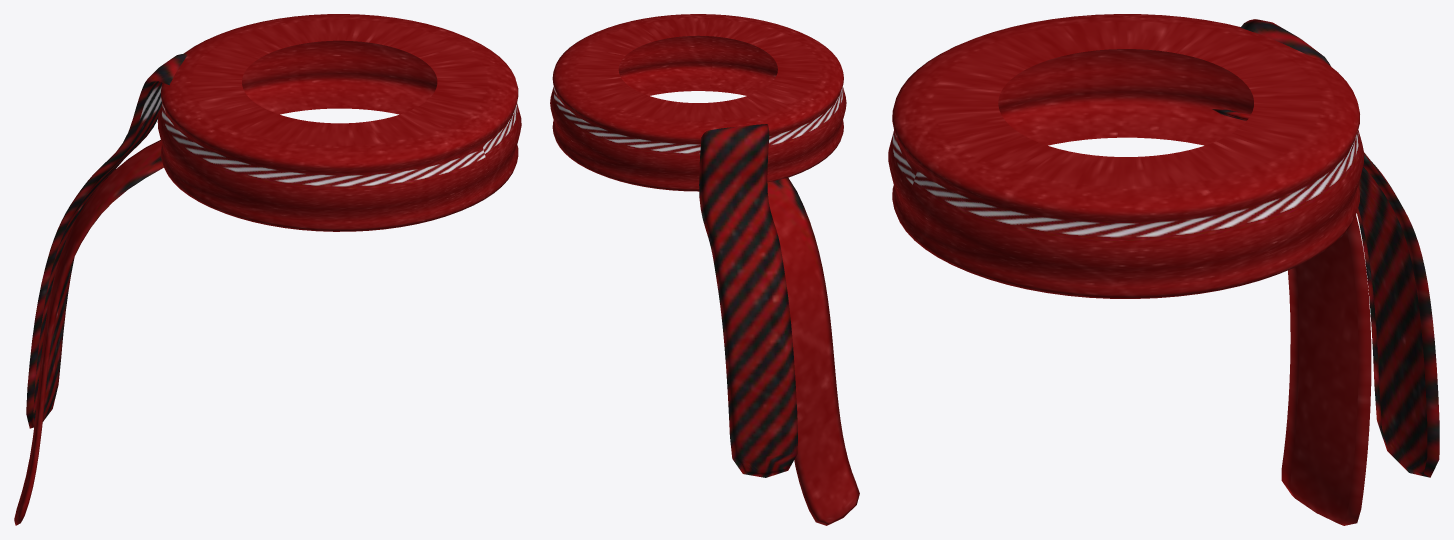
File: scarf.fbx
3 renders of one model, left to right at view 1: azimuth 30°, elevation 25°; view 2: azimuth 150°, elevation 25°; view 3: azimuth 270°, elevation 25°, orthographic. The views are drawn at different scales.
Visible parts, largest first — view 1: snowman.014; view 2: snowman.014; view 3: snowman.014.
Boxes of the visible parts, x1,y1,x2,y2 form: snowman.014: (14, 14, 521, 525); snowman.014: (550, 14, 859, 525); snowman.014: (888, 14, 1439, 525).
Size of the model in its own units: 408 by 413 by 358.
Materials: 1 (1 with a texture image).
